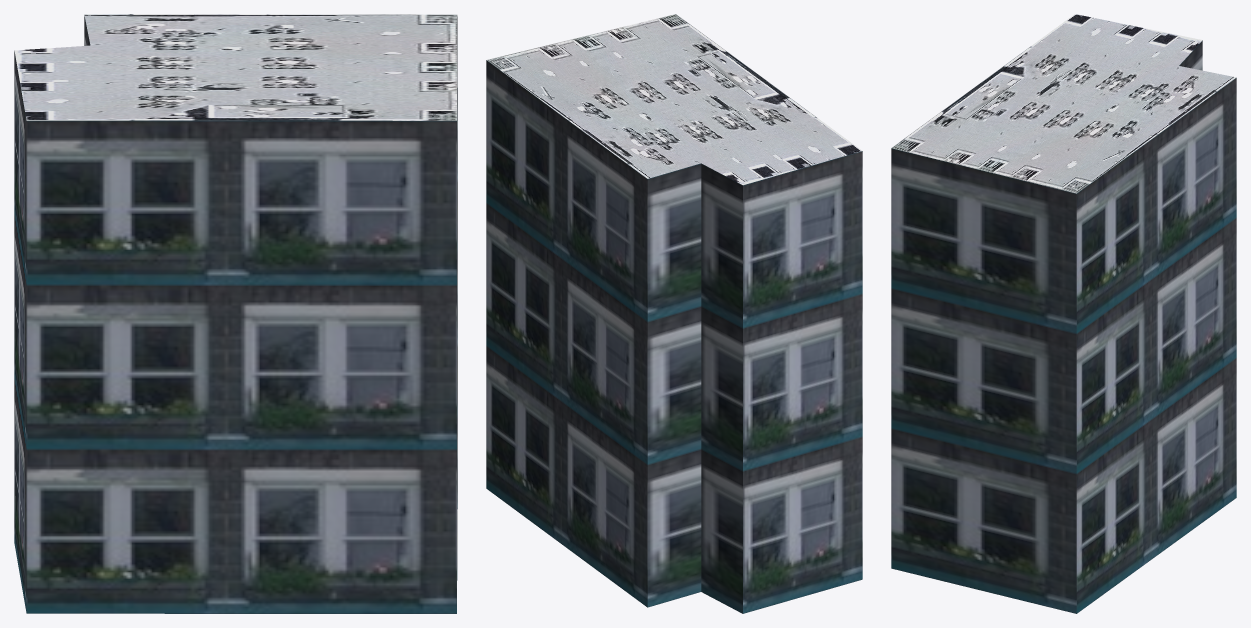
Rendered from ResTex__5255.fbx.
3 renders of one model, left to right at view 1: azimuth 30°, elevation 25°; view 2: azimuth 150°, elevation 25°; view 3: azimuth 270°, elevation 25°, orthographic. The views are drawn at different scales.
Parts seen in each view (by area): view 1: CityEngineMaterial_11_m, CityEngineMaterial_4_m; view 2: CityEngineMaterial_11_m, CityEngineMaterial_4_m; view 3: CityEngineMaterial_11_m, CityEngineMaterial_4_m.
Part boxes in pixels (x1,y1,x2,y2): CityEngineMaterial_11_m: (14, 15, 457, 613); CityEngineMaterial_4_m: (14, 14, 457, 120); CityEngineMaterial_11_m: (486, 60, 862, 613); CityEngineMaterial_4_m: (487, 14, 861, 185); CityEngineMaterial_11_m: (891, 40, 1236, 613); CityEngineMaterial_4_m: (891, 14, 1236, 193).
Bounding box in the file's own units: 8.25 × 9 × 6.71.
Materials: 2 (2 with a texture image).
